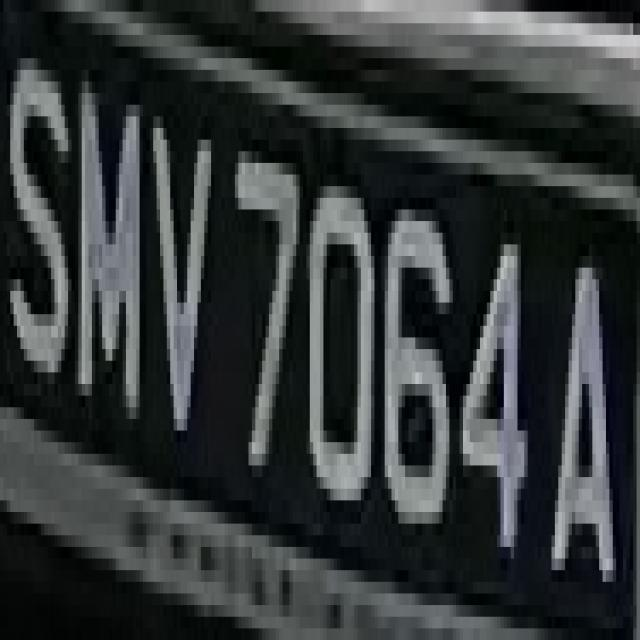0: (313, 140, 378, 570)
4: (449, 186, 531, 582)
6: (378, 151, 459, 559)
7: (224, 93, 300, 524)
A: (545, 198, 623, 628)
M: (68, 58, 143, 454)
S: (10, 0, 72, 396)
V: (140, 93, 221, 454)
